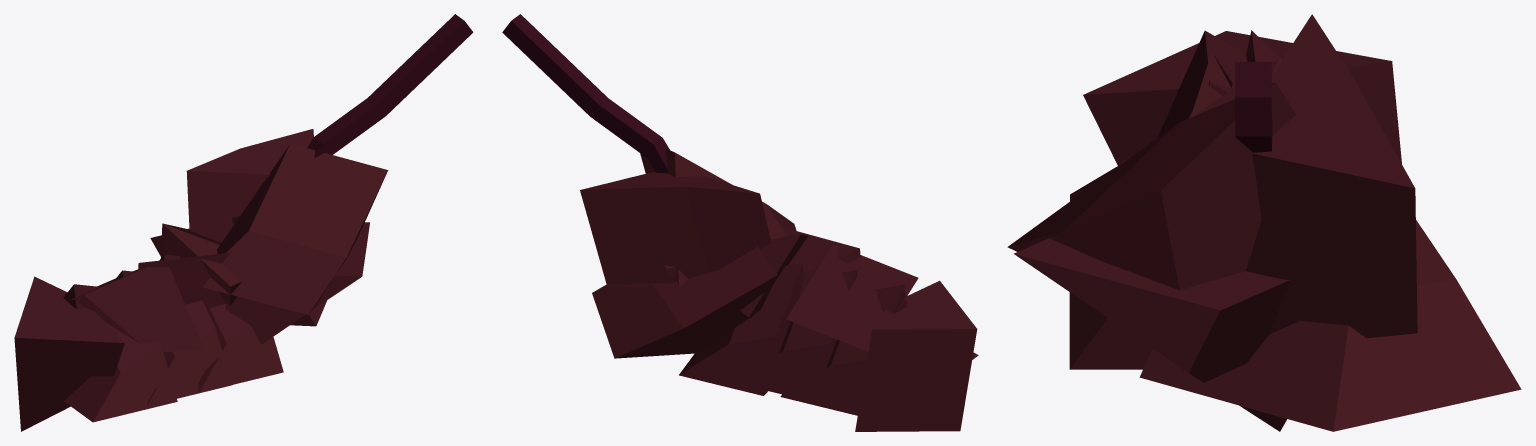
File: Grapes Super Low Polly.gltf
3 views of the same model, side by side, from view 1: azimuth 30°, elevation 25°; view 2: azimuth 150°, elevation 25°; view 3: azimuth 270°, elevation 25° (orthographic). The views are drawn at different scales.
Parts seen in each view (by area): view 1: Cube.011, Cube.009, Cube.007, Cube.013, Cube, Cube.003, Cube.001, Cube.010, Cube.002, Cube.012, Cube.008, Cube.014; view 2: Cube.013, Cube.009, Cube.014, Cube.006, Cube.007, Cube, Cube.005, Cube.004, Cube.011, Cube.008, Cube.012; view 3: Cube.013, Cube.014, Cube.011, Cube.010, Cube.009, Cube.001, Cube, Cube.007, Cube.008, Cube.004.
Boxes of the visible parts, x1,y1,x2,y2 form: Cube.011: (202,143,388,314); Cube.009: (14,276,124,431); Cube.007: (68,259,203,352); Cube.013: (186,129,313,242); Cube: (307,14,473,157); Cube.003: (64,322,177,422); Cube.001: (197,304,283,392); Cube.010: (225,222,369,344); Cube.002: (147,300,231,405); Cube.012: (161,223,242,305); Cube.008: (138,253,229,308); Cube.014: (150,216,326,326); Cube.013: (580,171,771,286); Cube.009: (855,280,977,431); Cube.014: (592,246,777,358); Cube.006: (679,263,804,395); Cube.007: (786,244,918,351); Cube: (502,14,669,173); Cube.005: (769,270,857,402); Cube.004: (780,285,906,417); Cube.011: (640,148,796,286); Cube.008: (783,227,860,299); Cube.012: (740,234,807,317); Cube.013: (1246,14,1417,338); Cube.014: (1139,220,1521,431); Cube.011: (1007,82,1295,290); Cube.010: (1014,238,1289,431); Cube.009: (1083,31,1401,166); Cube.001: (1069,292,1152,369); Cube: (1235,62,1272,152); Cube.007: (1158,30,1247,137); Cube.008: (1190,52,1232,117); Cube.004: (1246,30,1281,62).
Size of the model in its own units: 6.18 by 3.91 by 3.05.
2 materials, 1 textured.
